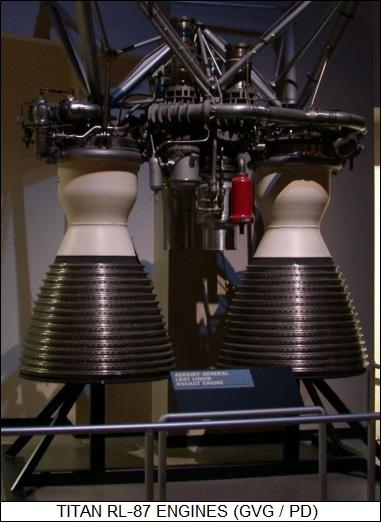thruster: (10, 225, 183, 385), (208, 230, 376, 377)
